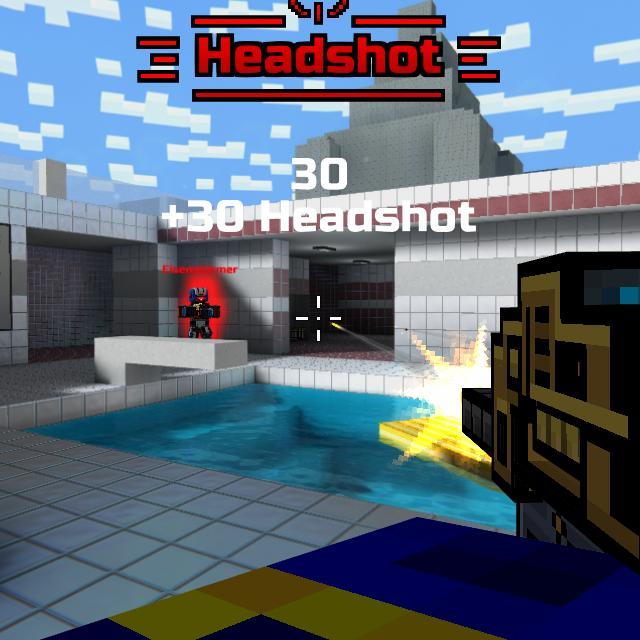Enemy: (177, 287, 219, 340)
